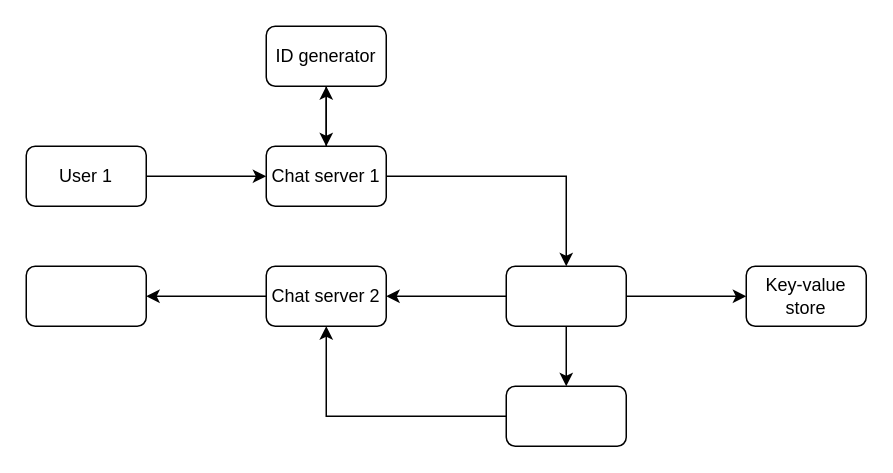
The diagram is 893 pixels wide and 473 high, and some of its shapes have lost their labels. The centre of each missing label's shape, as x and y in pixels:
Message queue 2: (x=565, y=295)
notification servers: (x=565, y=415)
User 2: (x=85, y=295)
